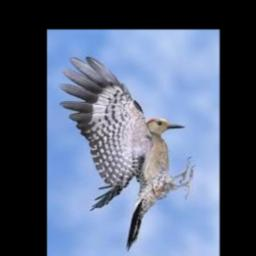Woodpecker: (59, 57, 195, 251)
